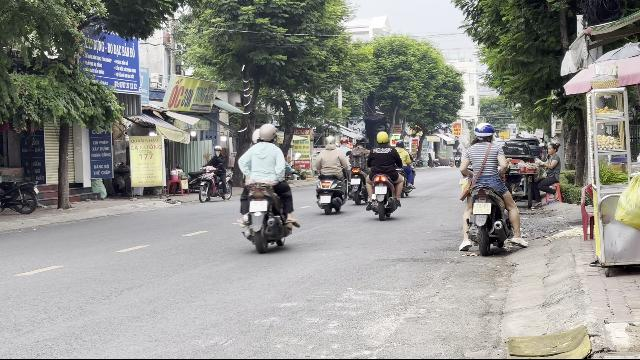helmet: (254, 123, 276, 143), (474, 122, 494, 142), (375, 131, 389, 145)
licenseplate: (474, 202, 491, 213), (250, 200, 266, 211), (375, 187, 387, 194)
motorcyclist: (456, 121, 522, 255), (235, 121, 299, 251), (366, 131, 404, 219)
